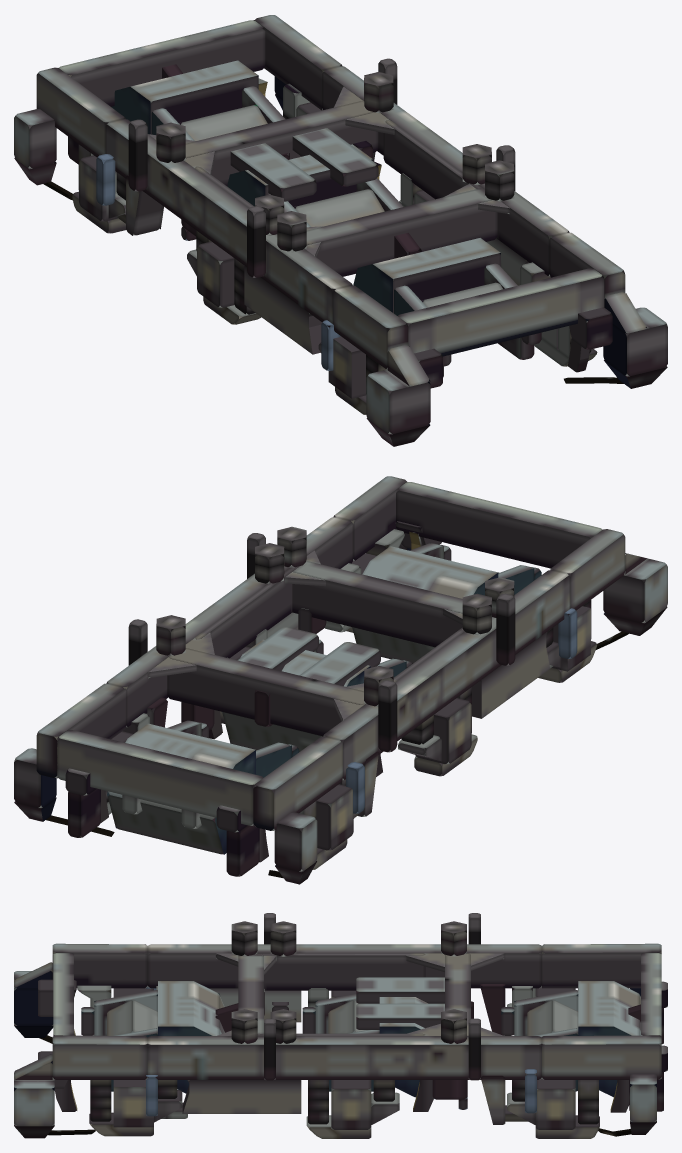
The model's file is ss3_frame.obj.
The picture shows the model from 3 angles, top to bottom: view 1: azimuth 30°, elevation 25°; view 2: azimuth 150°, elevation 25°; view 3: azimuth 270°, elevation 25°; orthographic projection. The views are drawn at different scales.
Parts seen in each view (by area): view 1: lianjiepan_selection; view 2: lianjiepan_selection; view 3: lianjiepan_selection.
Boxes of the visible parts, x1,y1,x2,y2 form: lianjiepan_selection: [14, 15, 667, 446]; lianjiepan_selection: [14, 476, 667, 884]; lianjiepan_selection: [14, 913, 667, 1138].
Size of the model in its own units: 2.79 by 1.38 by 6.32.
